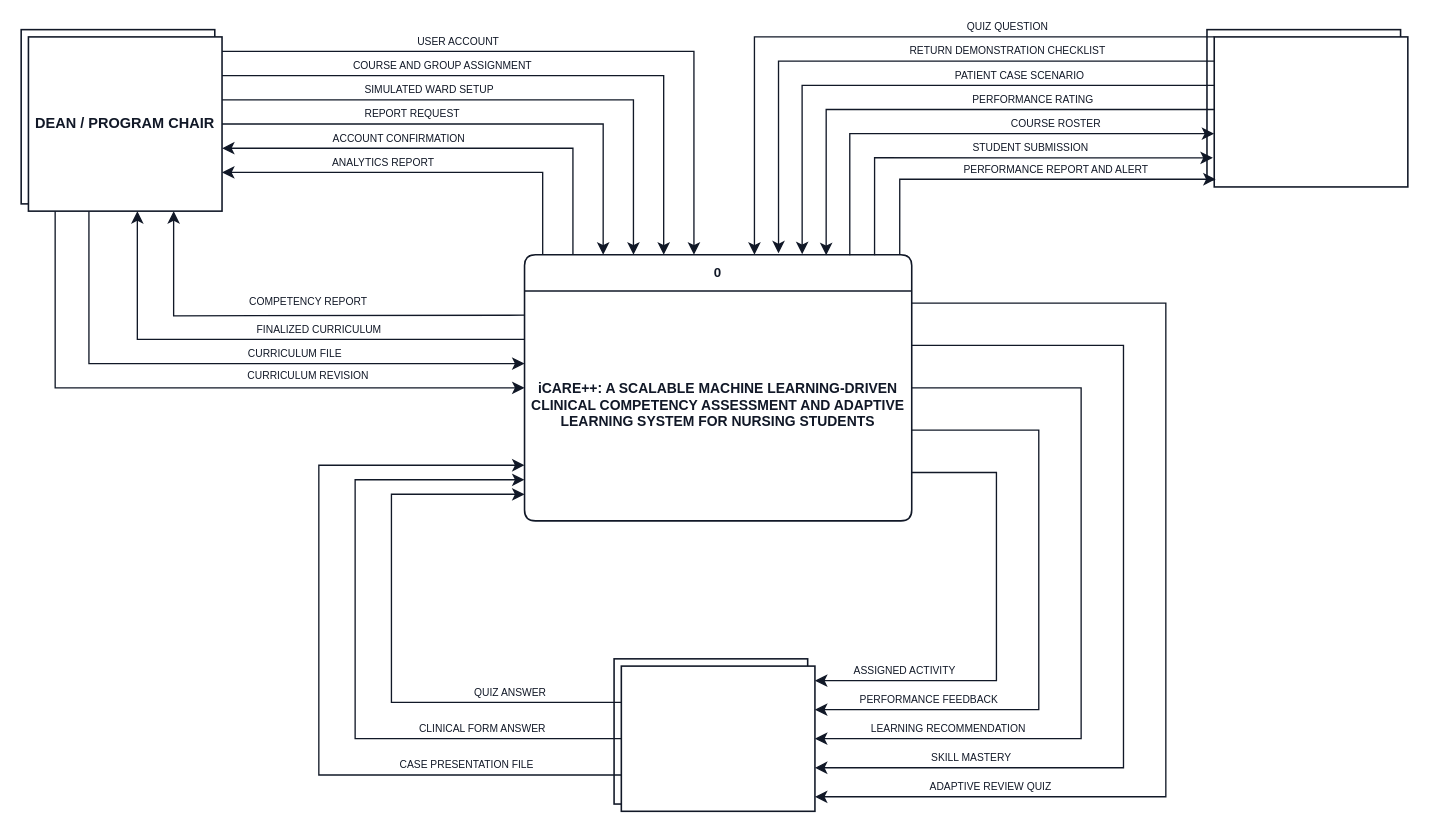
The diagram is 1430 pixels wide and 832 high, and some of its shapes have lost their labels. The shapes that lost their labels are listed below. From the top down, each one's centre as x and y in pixels, then its label:
At [1310,111]: "INSTRUCTOR".
At [717,738]: "STUDENT".
